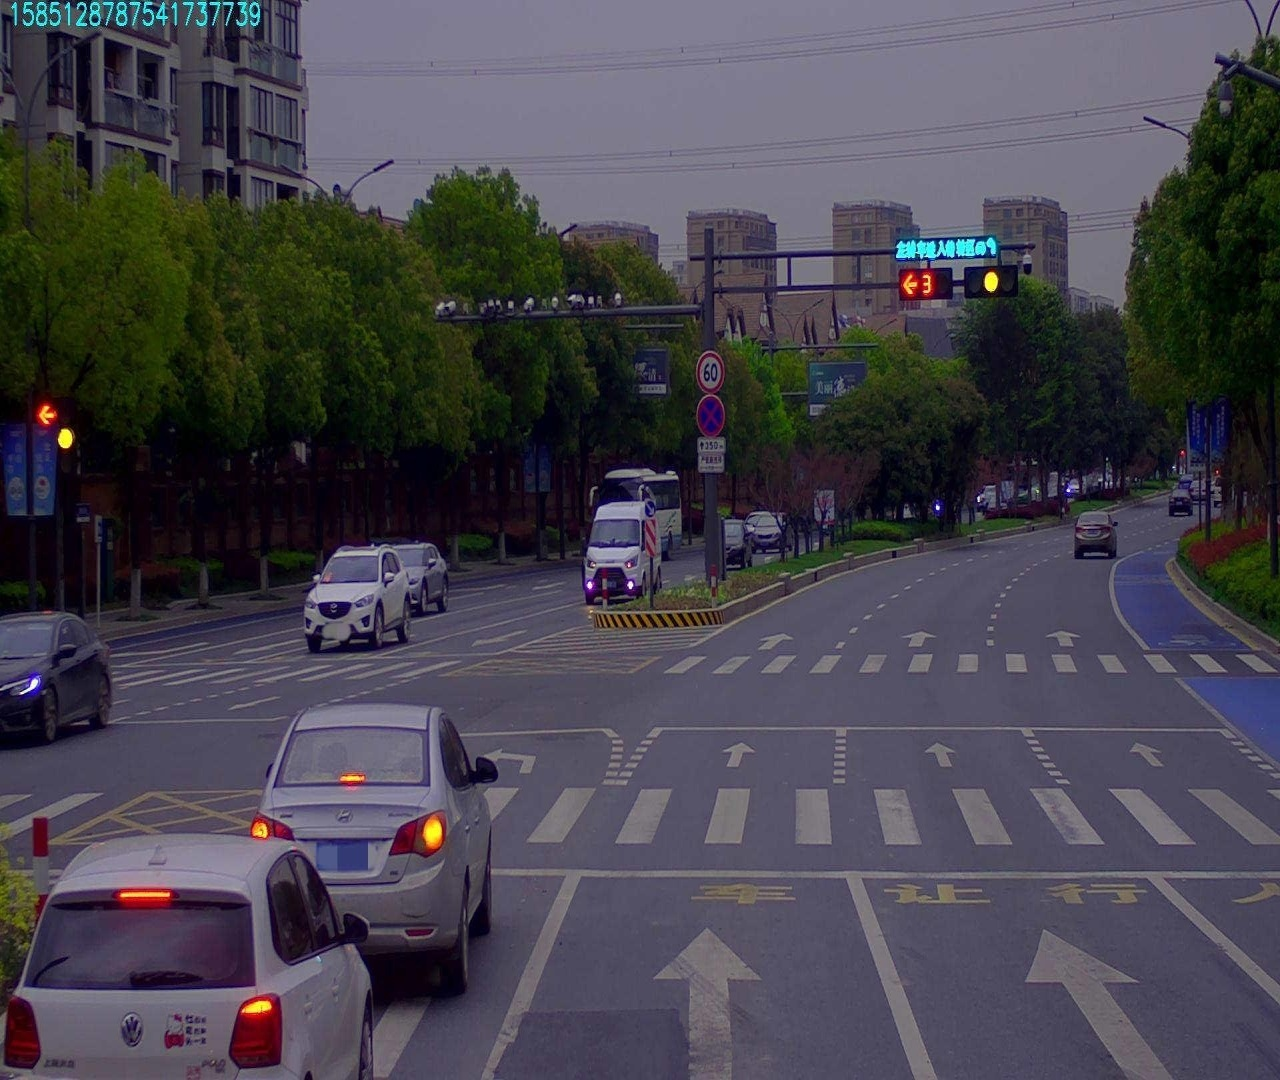red: (900, 270, 951, 304)
yellow: (962, 267, 1017, 298)
